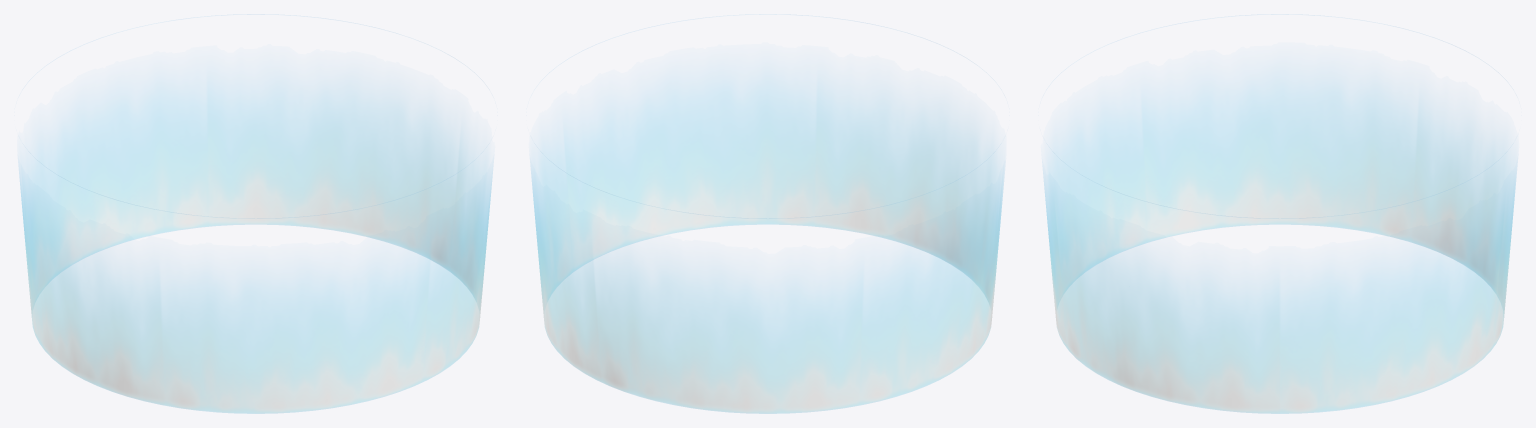
The model's file is shock_wall_frost.glb.
The picture shows the model from 3 angles, left to right: view 1: azimuth 30°, elevation 25°; view 2: azimuth 150°, elevation 25°; view 3: azimuth 270°, elevation 25°; orthographic projection.
Visible parts, largest first — view 1: wall; view 2: wall; view 3: wall.
Part boxes in pixels (left/top/right/bottom): wall: left=19, top=14, right=492, bottom=413; wall: left=531, top=15, right=1003, bottom=413; wall: left=1044, top=14, right=1516, bottom=413.
Bounding box in the file's own units: 2.16 × 1 × 2.16.
1 material, 1 textured.
